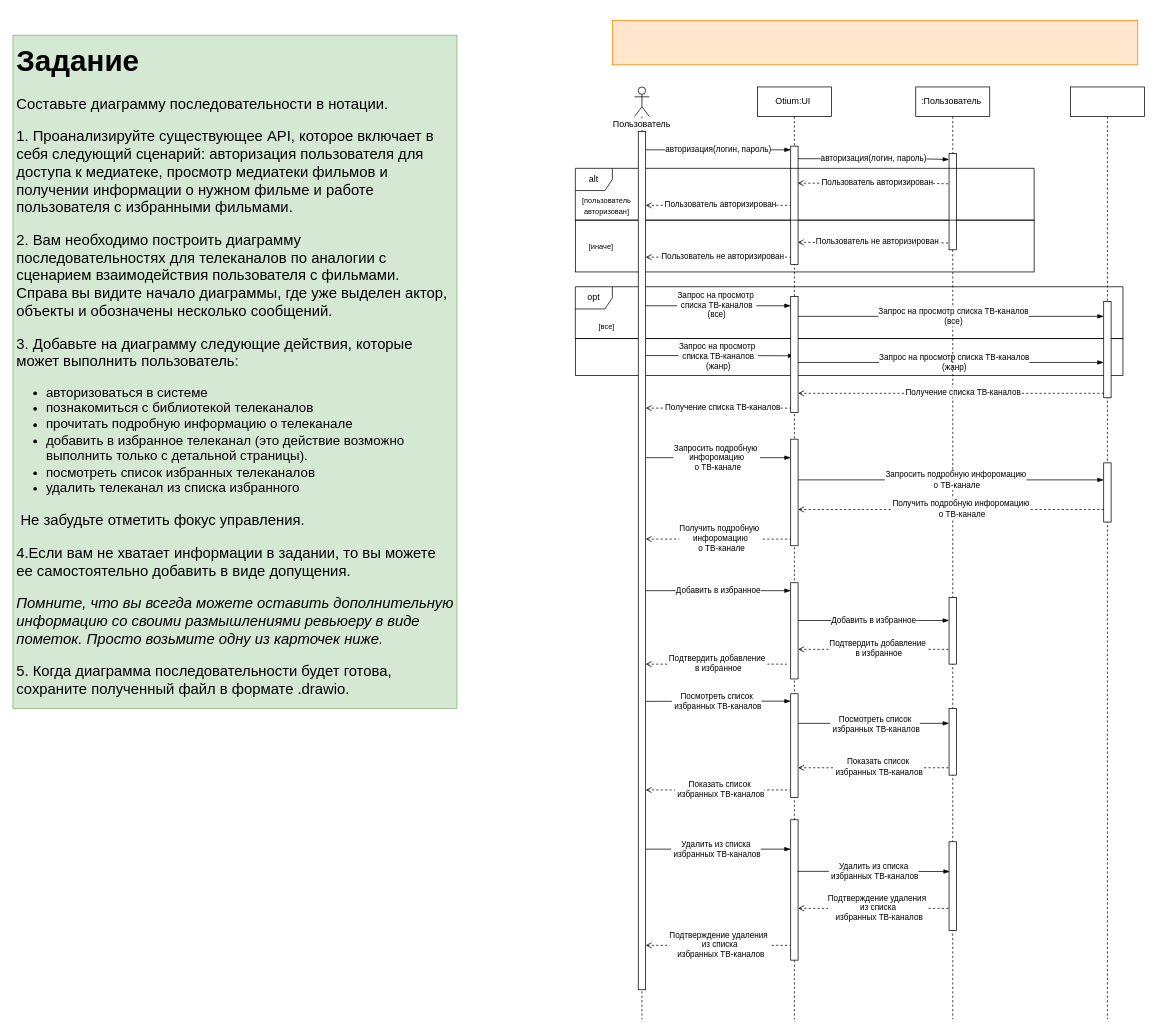
Some shapes in this 1157 by 1032 pixel diagram are drawn without their labels. The shapes that lost their labels are listed below. From the top down, each one's centre as x and y in pixels, then its label:
At (875,42): "Диаграмма последовательности".
At (849,357): "[указать жанр]".
At (1107,552): ":ТВ-каналы".
